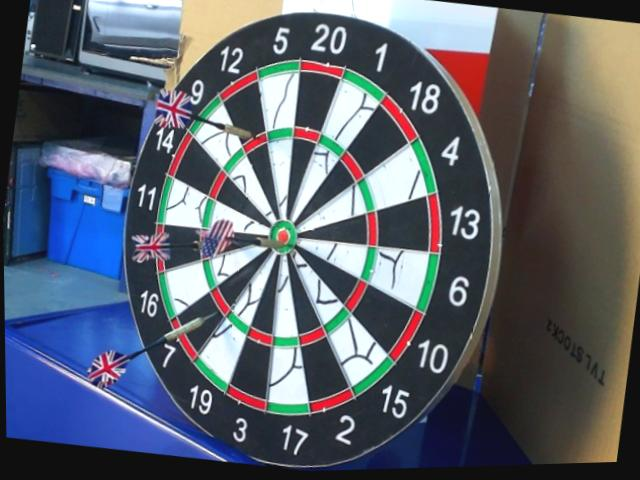bullseye: (263, 226, 298, 251)
single_7: (179, 301, 224, 344)
triple_12: (240, 133, 270, 153)
